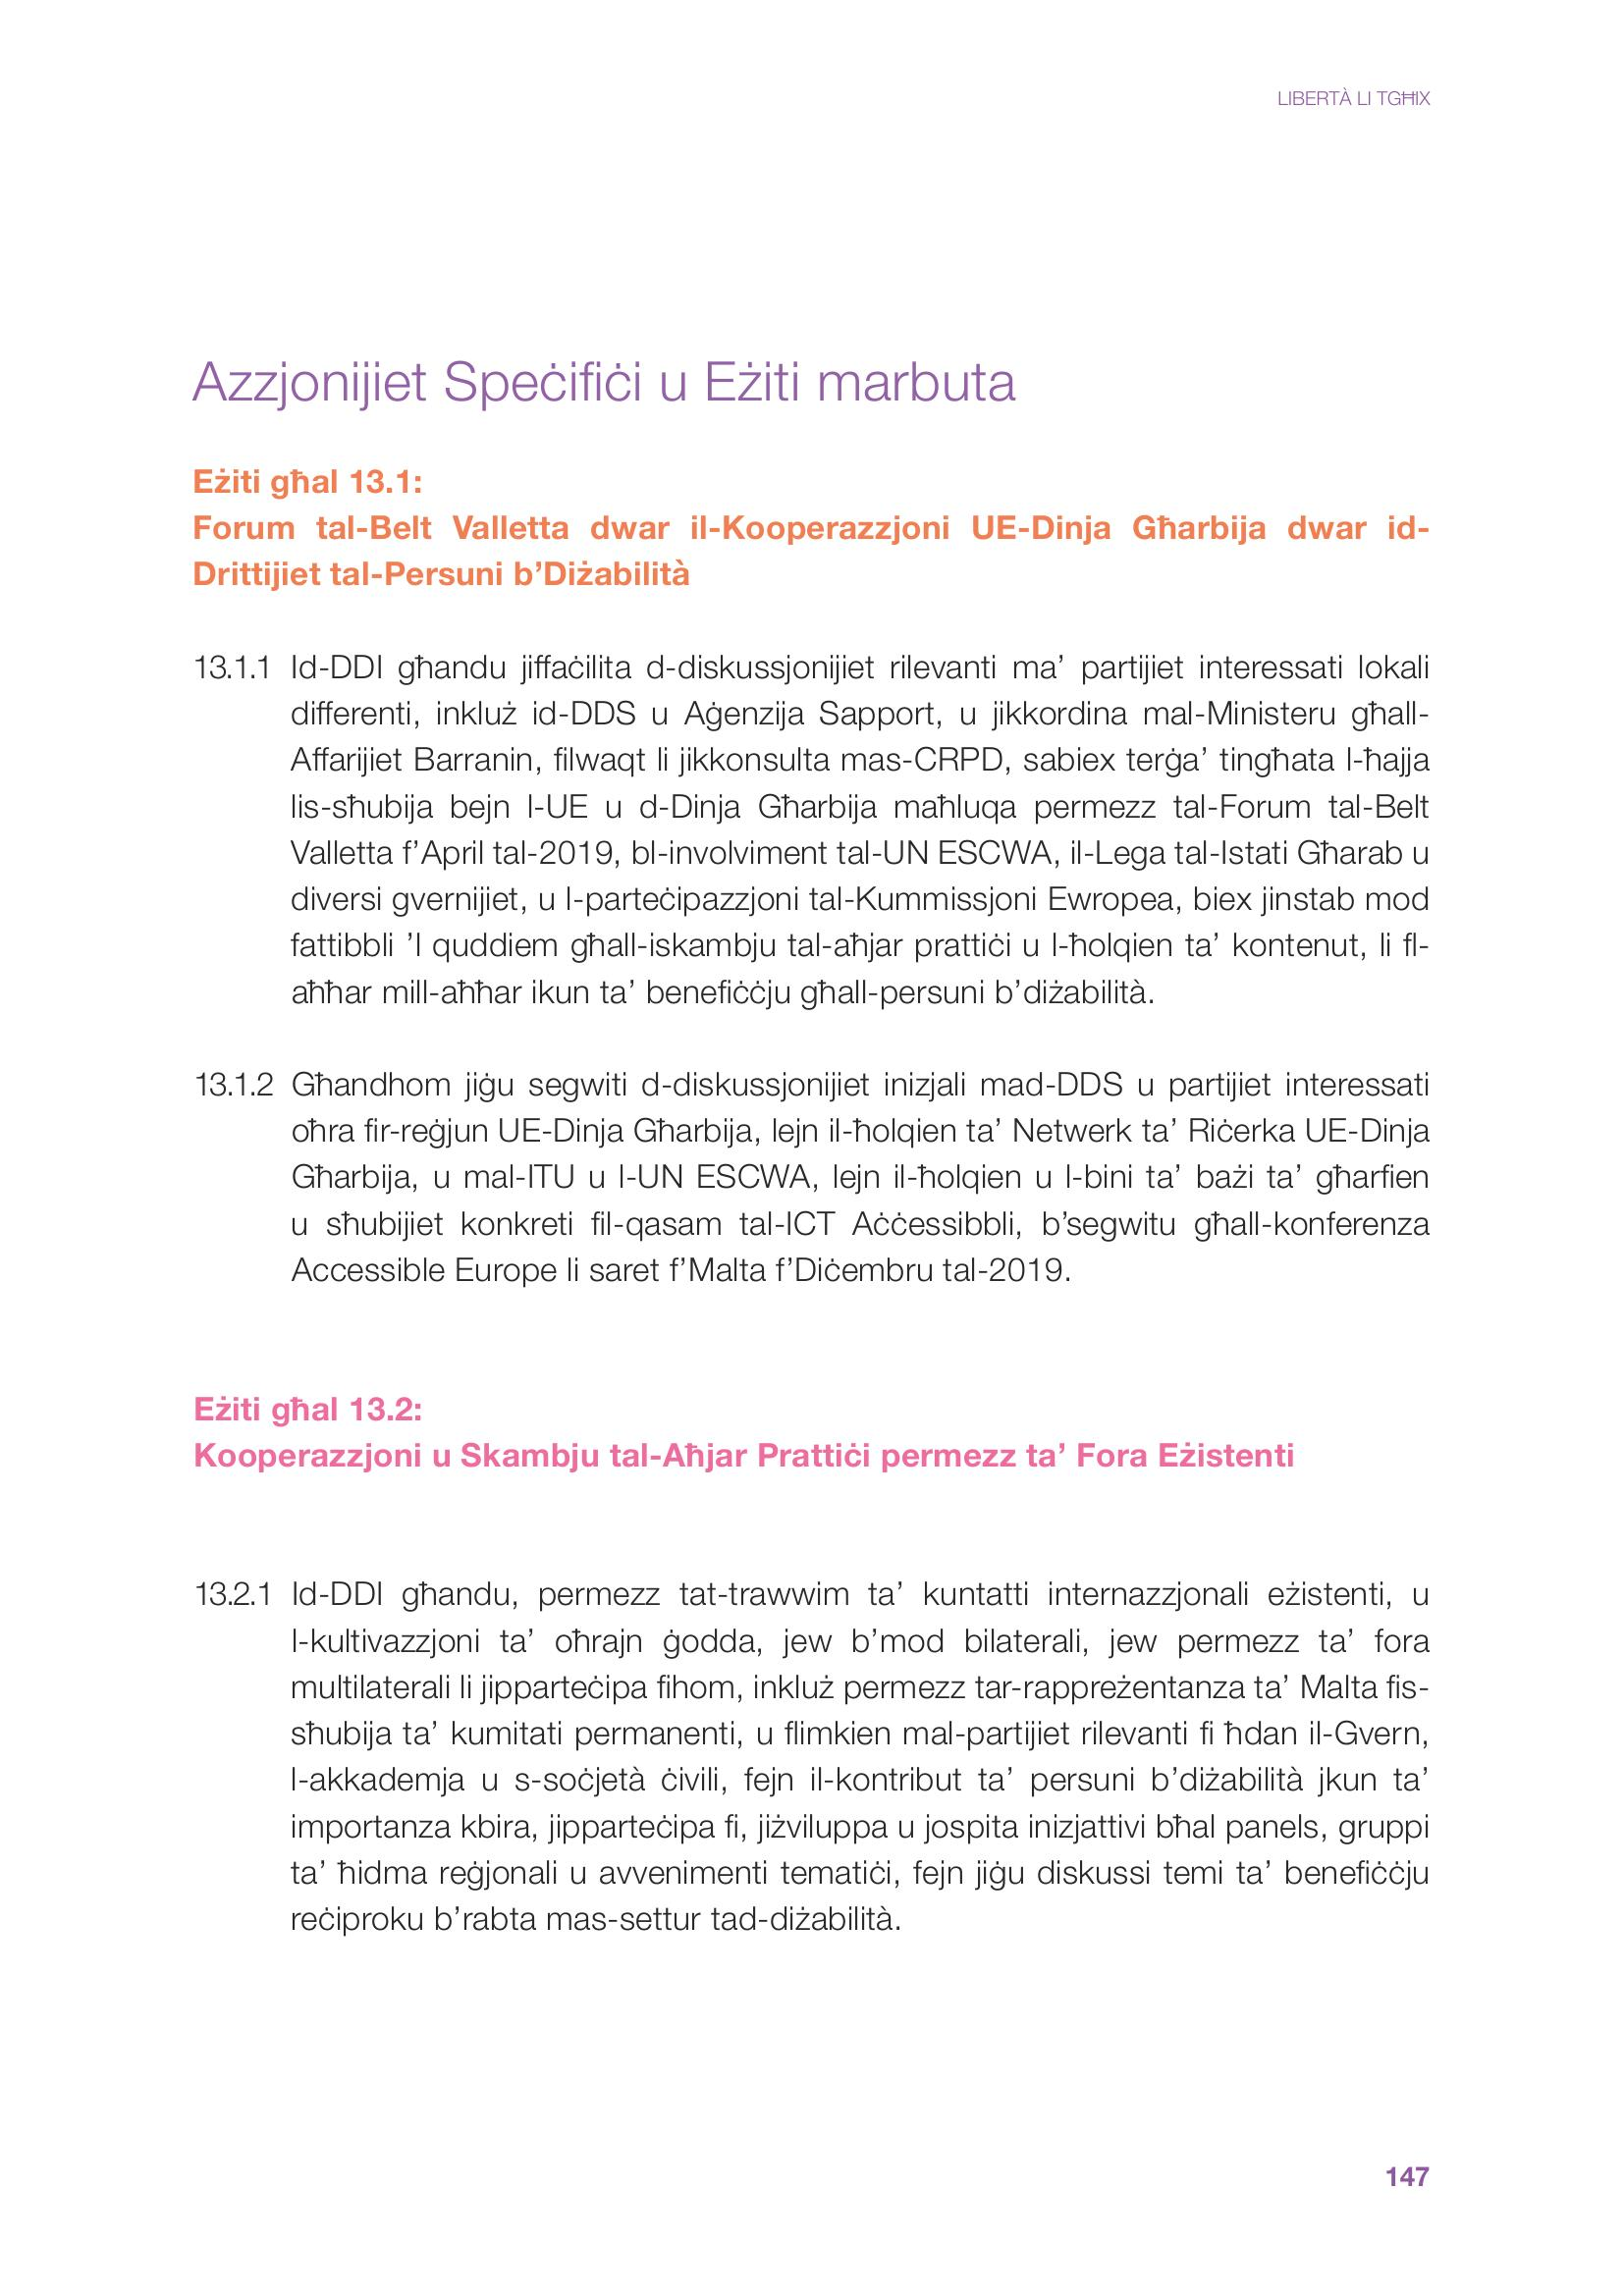text: (153, 336, 1446, 1960)
